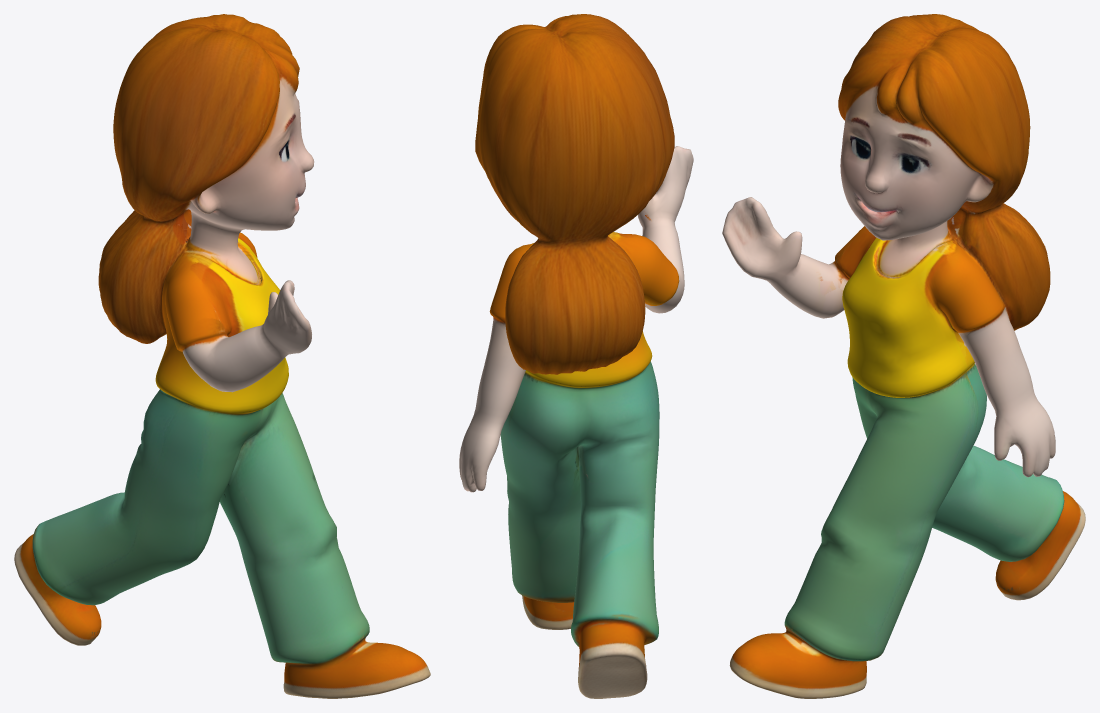
The model's file is muchachasaludando.glb.
3 views of the same model, side by side, from view 1: azimuth 30°, elevation 25°; view 2: azimuth 150°, elevation 25°; view 3: azimuth 270°, elevation 25° (orthographic). The views are drawn at different scales.
Visible parts, largest first — view 1: model; view 2: model; view 3: model.
Boxes of the visible parts, x1,y1,x2,y2 form: model: [14, 14, 430, 698]; model: [459, 14, 693, 698]; model: [722, 14, 1085, 698].
Size of the model in its own units: 0.7926 by 1.9 by 0.9888.
Materials: 1 (1 with a texture image).
